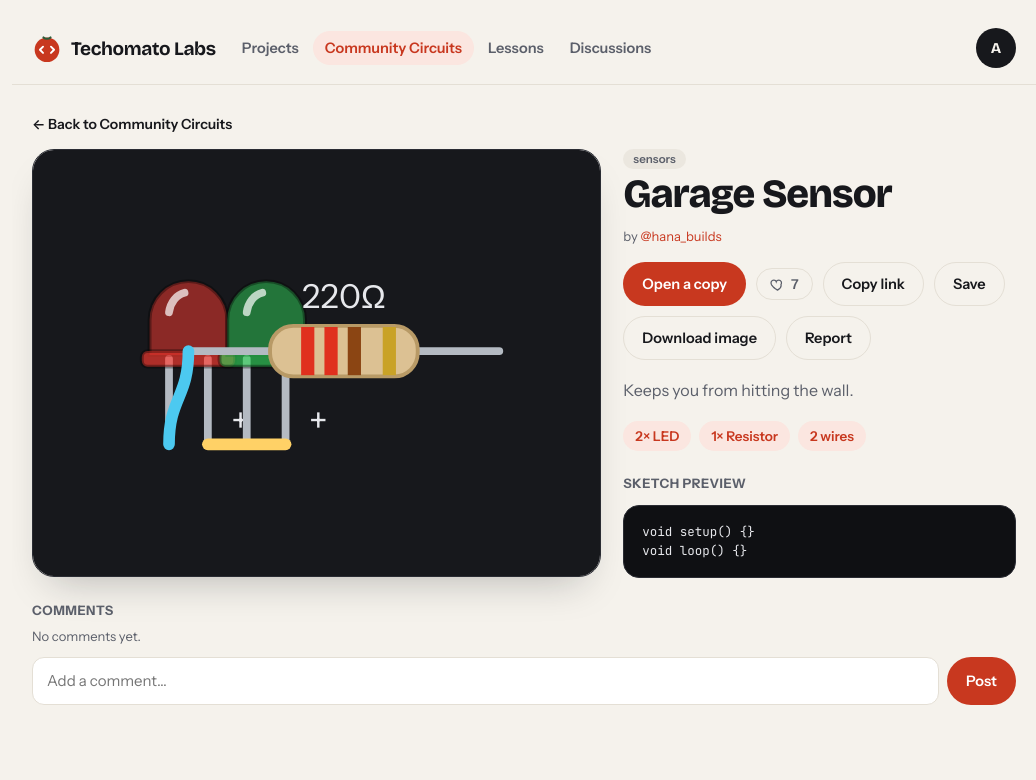
Test: DetailPage › shows "Open a copy" for a non-owner, and remixes into a new editor project
expect the heading "Garage Sensor" is shown: met, box [623,170,892,218]
Click the button "Open a copy" at [685, 284], box [623,262,746,306]
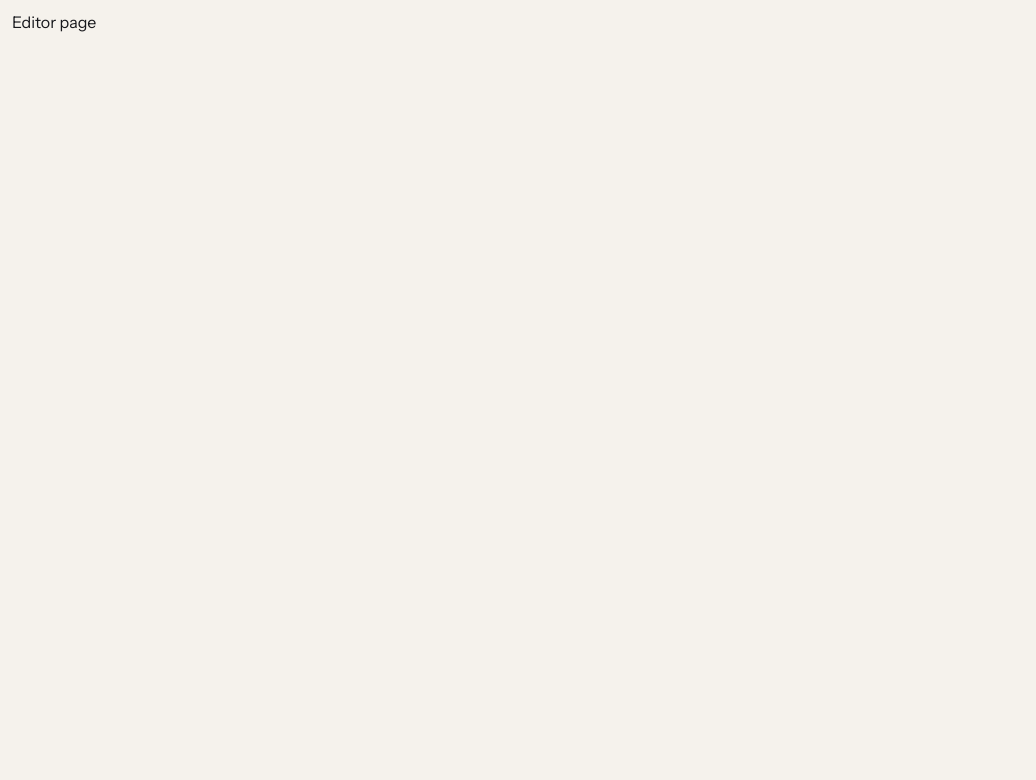
expect the text "Editor page" is shown: met, box [12,12,96,32]
